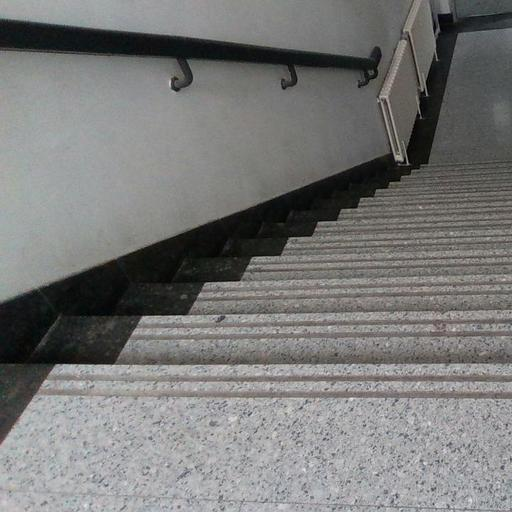stairs: (0, 163, 511, 511)
